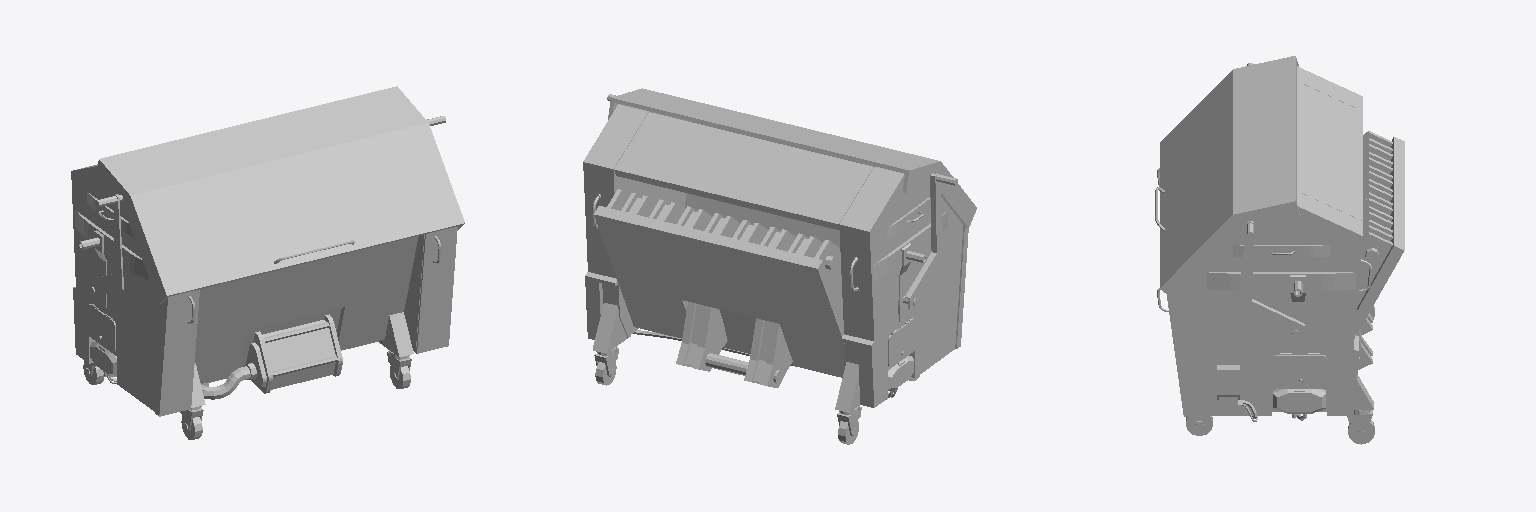
Rendered from americanTrashcan.obj.
3 views of the same model, side by side, from view 1: azimuth 30°, elevation 25°; view 2: azimuth 150°, elevation 25°; view 3: azimuth 270°, elevation 25° (orthographic).
Visible parts, largest first — view 1: defaultMaterial.051, defaultMaterial.049, defaultMaterial.053, defaultMaterial.042, defaultMaterial.013, defaultMaterial.039, defaultMaterial.045, defaultMaterial.040, defaultMaterial.044, defaultMaterial.047, defaultMaterial.037, defaultMaterial.008 (+5 smaller); view 2: defaultMaterial.053, defaultMaterial.050, defaultMaterial.052, defaultMaterial.051, defaultMaterial.012, defaultMaterial.048, defaultMaterial.045, defaultMaterial.040, defaultMaterial.039, defaultMaterial.011, defaultMaterial.037, defaultMaterial.007 (+10 smaller); view 3: defaultMaterial.051, defaultMaterial.053, defaultMaterial.052, defaultMaterial.039, defaultMaterial.050, defaultMaterial.040, defaultMaterial.037, defaultMaterial.038, defaultMaterial.011, defaultMaterial.042, defaultMaterial.041, defaultMaterial.044.
Boxes of the visible parts, <box> form: defaultMaterial.051: <box>96,86,464,303</box>; defaultMaterial.049: <box>195,236,418,383</box>; defaultMaterial.053: <box>71,164,424,411</box>; defaultMaterial.042: <box>155,226,457,416</box>; defaultMaterial.013: <box>263,320,335,389</box>; defaultMaterial.039: <box>75,192,148,280</box>; defaultMaterial.045: <box>191,312,413,407</box>; defaultMaterial.040: <box>88,194,123,296</box>; defaultMaterial.044: <box>83,363,410,439</box>; defaultMaterial.047: <box>241,308,341,366</box>; defaultMaterial.037: <box>88,304,115,351</box>; defaultMaterial.008: <box>251,314,342,393</box>; defaultMaterial.053: <box>583,104,962,407</box>; defaultMaterial.050: <box>594,206,844,377</box>; defaultMaterial.052: <box>614,112,873,229</box>; defaultMaterial.051: <box>608,88,976,227</box>; defaultMaterial.012: <box>676,302,792,387</box>; defaultMaterial.048: <box>685,193,839,364</box>; defaultMaterial.045: <box>593,303,859,412</box>; defaultMaterial.040: <box>905,173,943,310</box>; defaultMaterial.039: <box>873,197,947,281</box>; defaultMaterial.011: <box>607,189,842,314</box>; defaultMaterial.037: <box>888,319,915,366</box>; defaultMaterial.007: <box>705,256,836,383</box>; defaultMaterial.051: <box>1160,56,1301,302</box>; defaultMaterial.053: <box>1177,66,1362,415</box>; defaultMaterial.052: <box>1297,81,1362,220</box>; defaultMaterial.039: <box>1207,245,1355,290</box>; defaultMaterial.050: <box>1355,137,1404,335</box>; defaultMaterial.040: <box>1237,221,1305,341</box>; defaultMaterial.037: <box>1273,355,1326,385</box>; defaultMaterial.038: <box>1273,389,1325,413</box>; defaultMaterial.011: <box>1357,131,1392,306</box>; defaultMaterial.042: <box>1167,295,1191,416</box>; defaultMaterial.041: <box>1217,365,1239,406</box>; defaultMaterial.044: <box>1186,306,1374,444</box>.
Size of the model in its own units: 2 by 1.41 by 1.24.